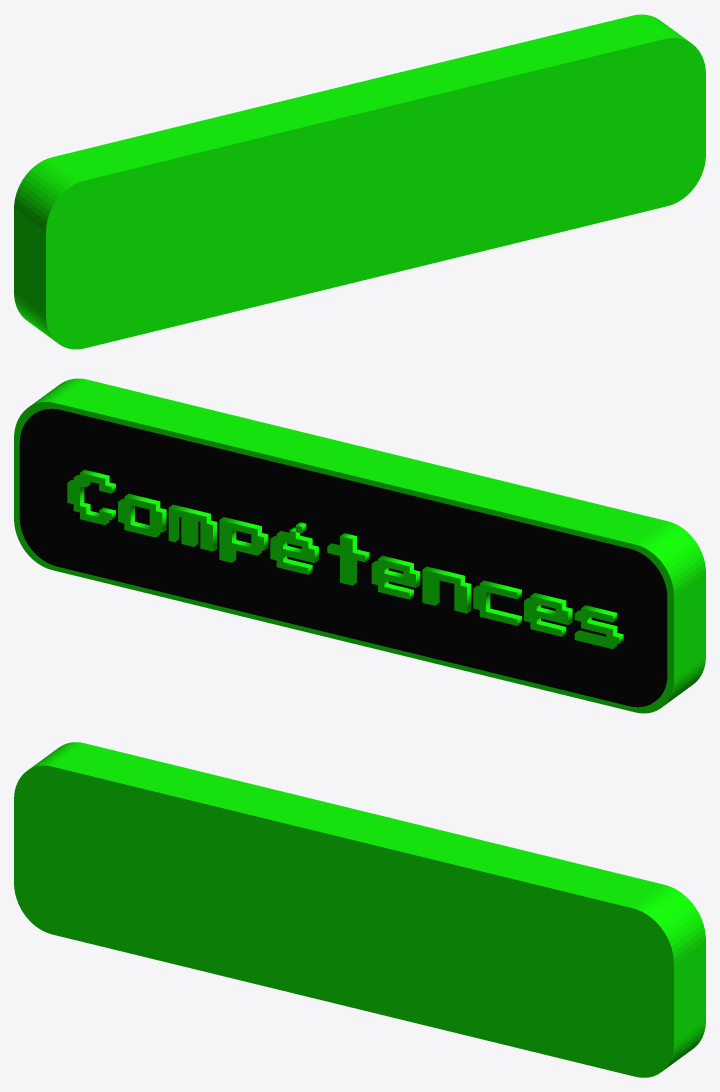
File: btn-competences.glb
3 renders of one model, top to bottom at view 1: azimuth 30°, elevation 25°; view 2: azimuth 150°, elevation 25°; view 3: azimuth 330°, elevation 25°, orthographic.
Parts seen in each view (by area): view 1: Cube.001; view 2: Cube, Cube.001, Text; view 3: Cube.001.
Part boxes in pixels (x1,y1,x2,y2): Cube.001: (14, 14, 705, 349); Cube: (19, 408, 667, 707); Cube.001: (14, 378, 705, 713); Text: (67, 469, 623, 648); Cube.001: (14, 742, 705, 1077).
Bounding box in the file's own units: 8.8 × 2.14 × 0.8565.
